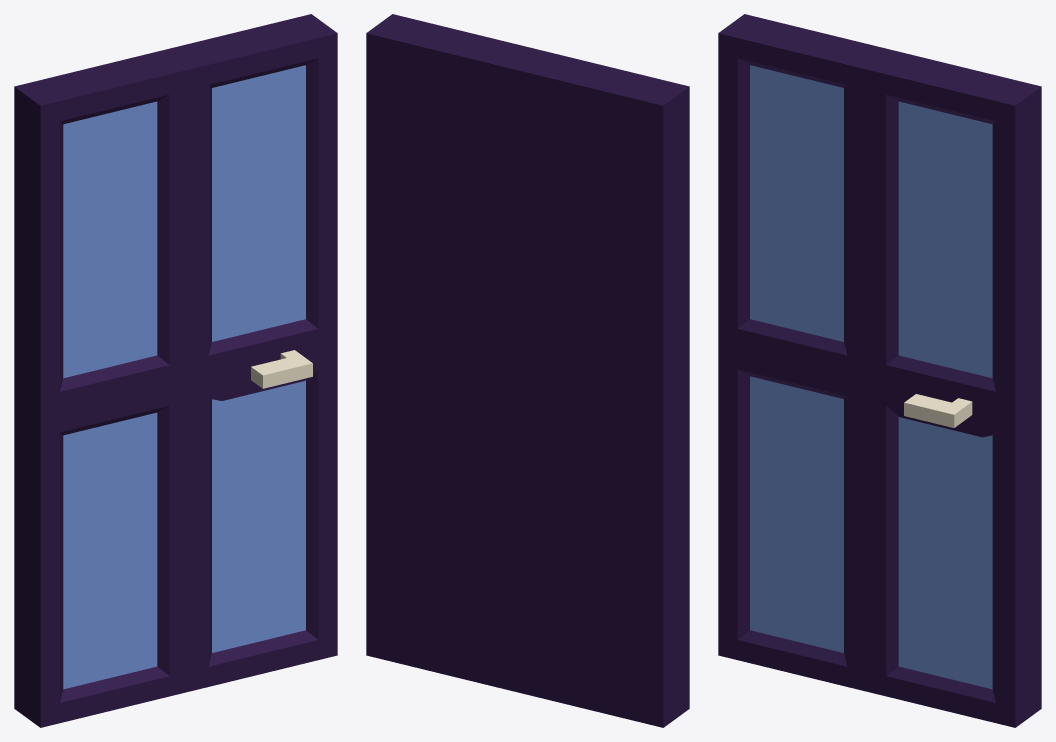
The model's file is deur.fbx.
3 renders of one model, left to right at view 1: azimuth 30°, elevation 25°; view 2: azimuth 150°, elevation 25°; view 3: azimuth 330°, elevation 25°, orthographic.
Visible parts, largest first — view 1: pCube4; view 2: pCube4; view 3: pCube4.
Part boxes in pixels (x1,y1,x2,y2): pCube4: [14, 14, 337, 727]; pCube4: [366, 14, 689, 727]; pCube4: [718, 14, 1041, 727].
Size of the model in its own units: 1.64 by 3.27 by 0.4247.
1 material, 1 textured.
